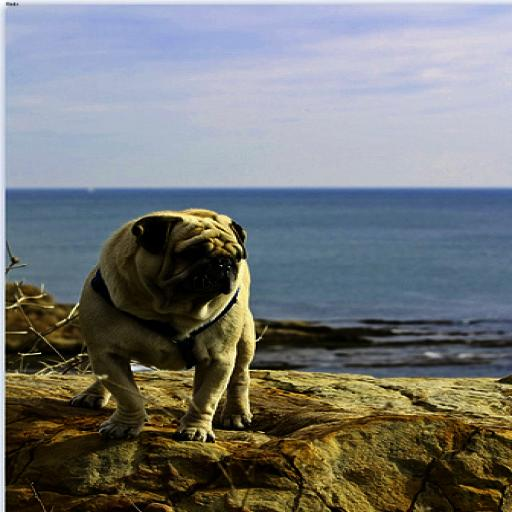dog_face: (111, 210, 262, 309)
